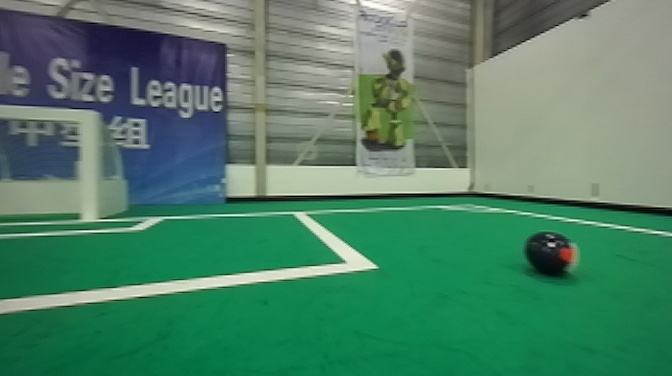ball: (522, 228, 580, 282)
goal: (1, 103, 100, 228)
goalpost: (80, 109, 97, 224)
